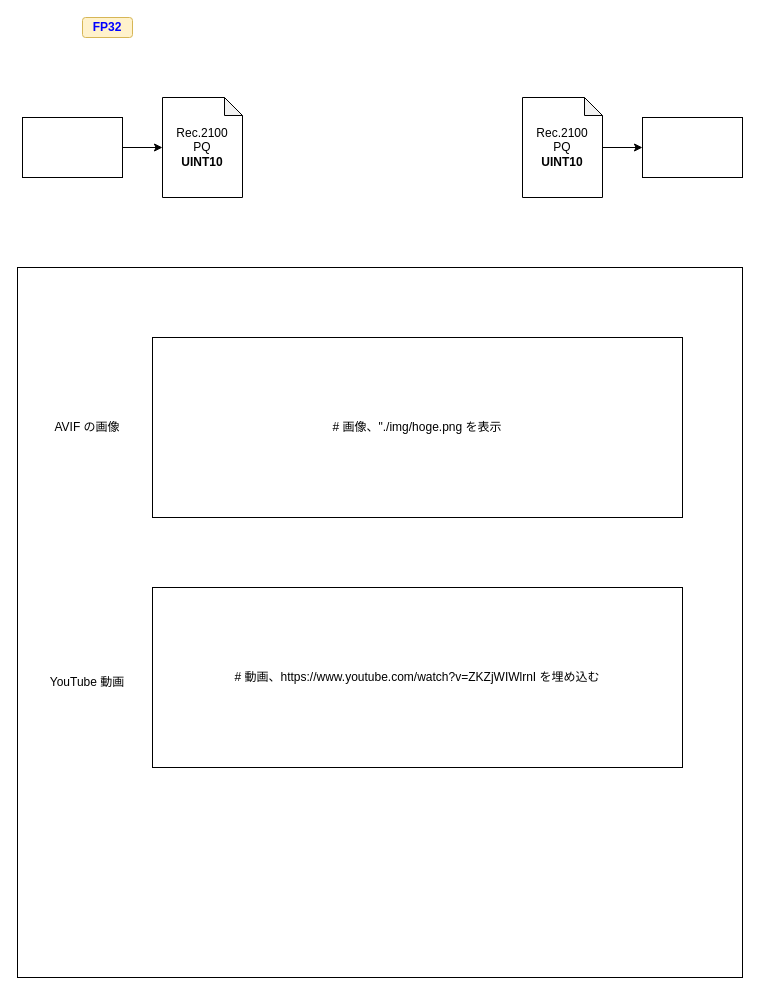
This 760x995 diagram has some shape labels left out. The shapes that lost their labels are listed below. From the top down, each one's centre as x and y in pixels, then its label:
At point 72,147: "YouTube".
At point 692,147: "PC Monitor".
